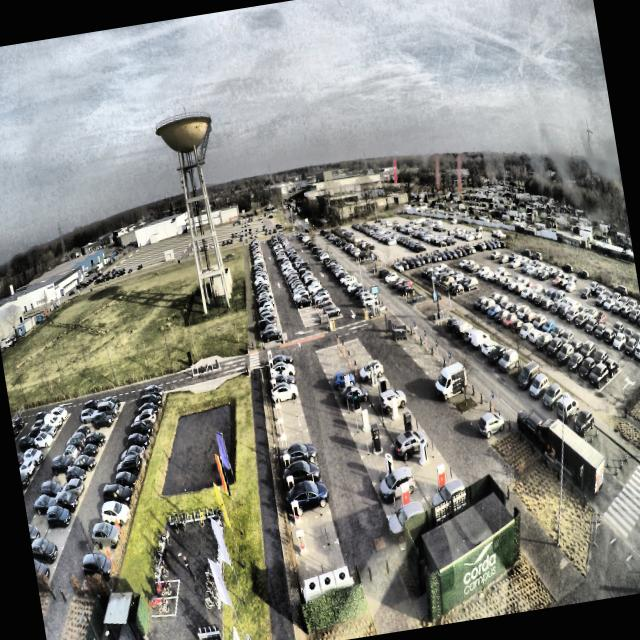cabinet: (304, 566, 350, 595)
car: (287, 480, 331, 516), (283, 461, 321, 489), (283, 442, 319, 469), (271, 382, 298, 404), (270, 361, 296, 377), (268, 374, 296, 388), (271, 354, 295, 370)
parking: (296, 541, 347, 590), (291, 512, 338, 556), (287, 487, 330, 524), (284, 465, 324, 498), (280, 446, 317, 477), (278, 430, 312, 456), (276, 415, 307, 440), (272, 386, 300, 409), (274, 401, 303, 423), (270, 375, 296, 395), (267, 357, 291, 373), (268, 366, 293, 381)
supercharger: (295, 530, 308, 555), (291, 501, 302, 524), (287, 475, 296, 492), (280, 436, 289, 453), (278, 420, 286, 438), (283, 454, 291, 471), (273, 391, 281, 406), (276, 406, 283, 420), (272, 380, 278, 391), (267, 351, 273, 361), (269, 360, 274, 370), (270, 369, 275, 378)
